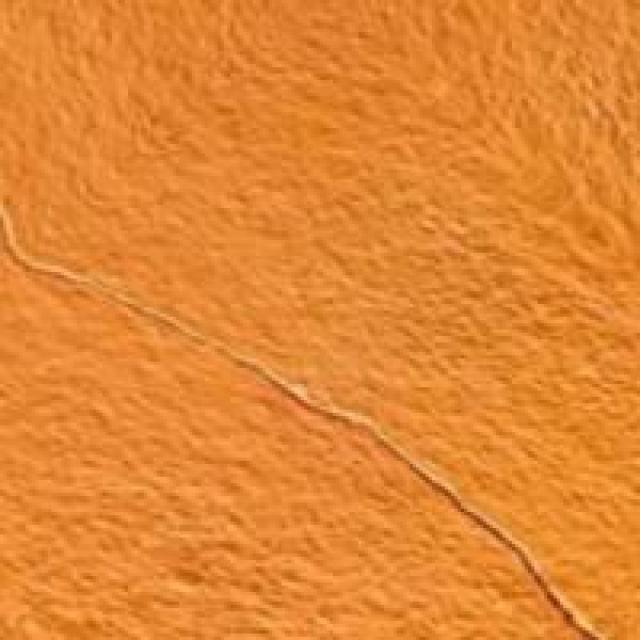crack: (6, 202, 592, 636)
